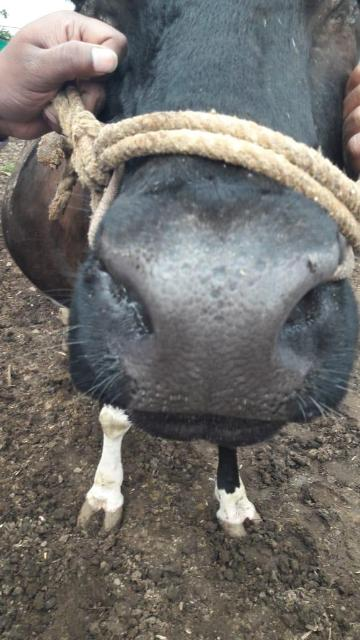Muzzle: (141, 248, 279, 404)
